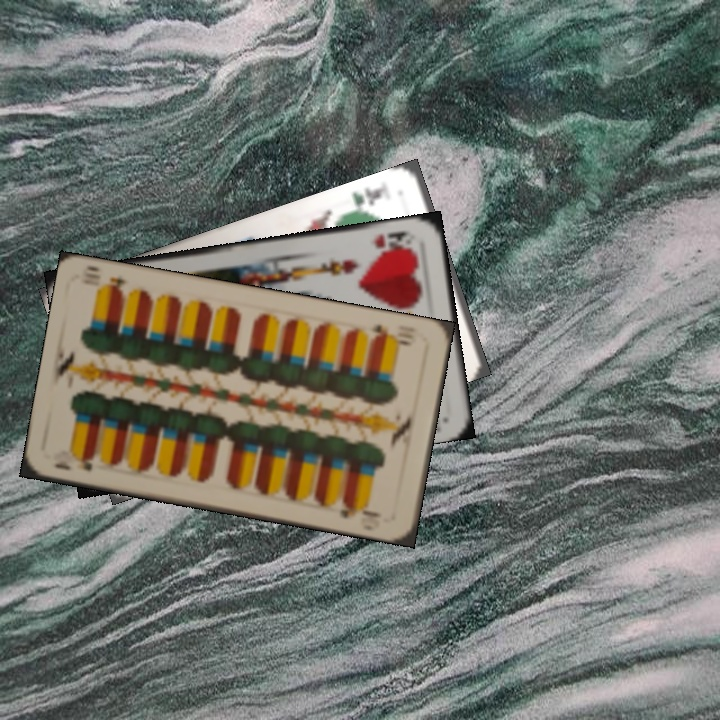E10: (367, 321, 415, 348), (50, 453, 97, 474)
GK: (345, 184, 387, 216)
HK: (369, 226, 417, 255)
